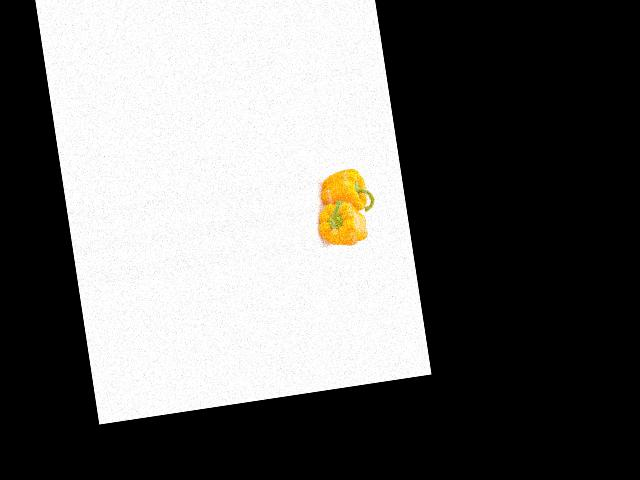bell_pepper: (317, 165, 374, 220)
